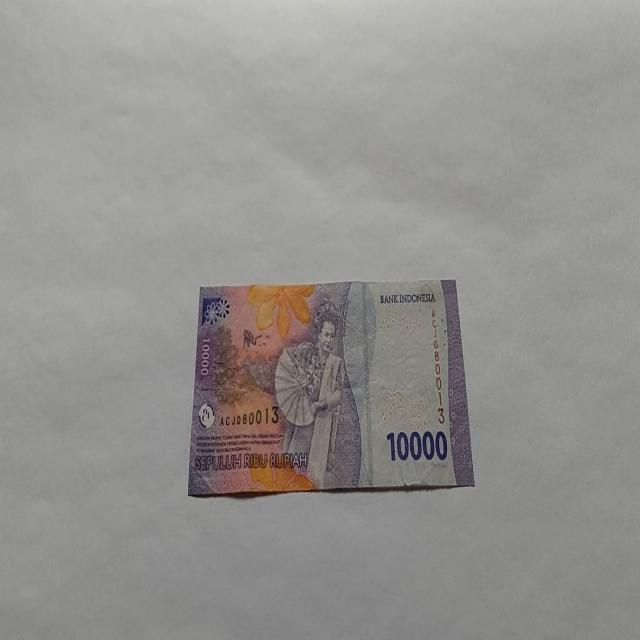sepuluh ribu rupiah: (186, 277, 474, 498)
